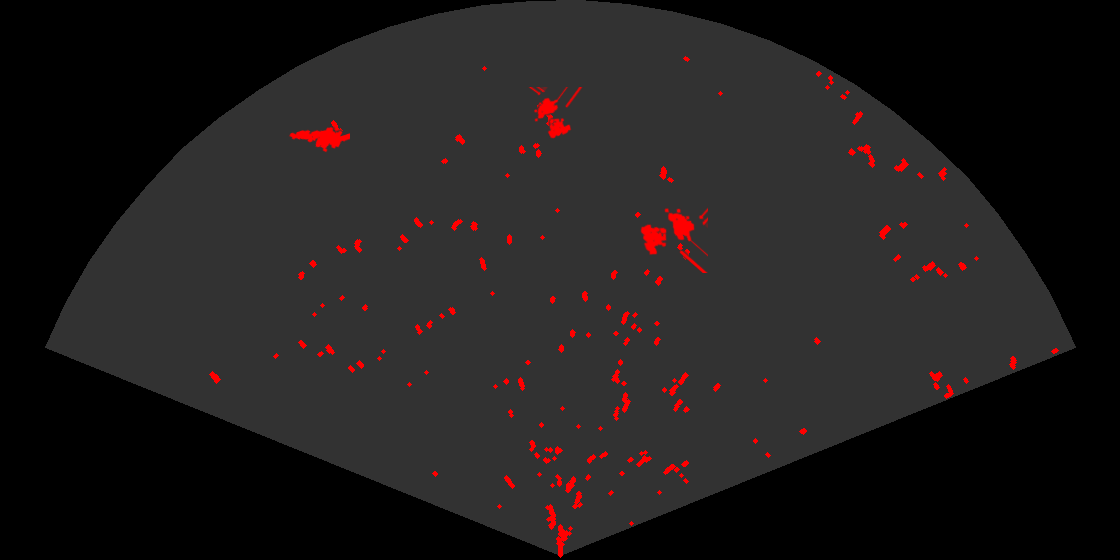cage: (639, 206, 708, 273), (527, 87, 584, 140)
frogman: (287, 125, 350, 154)
